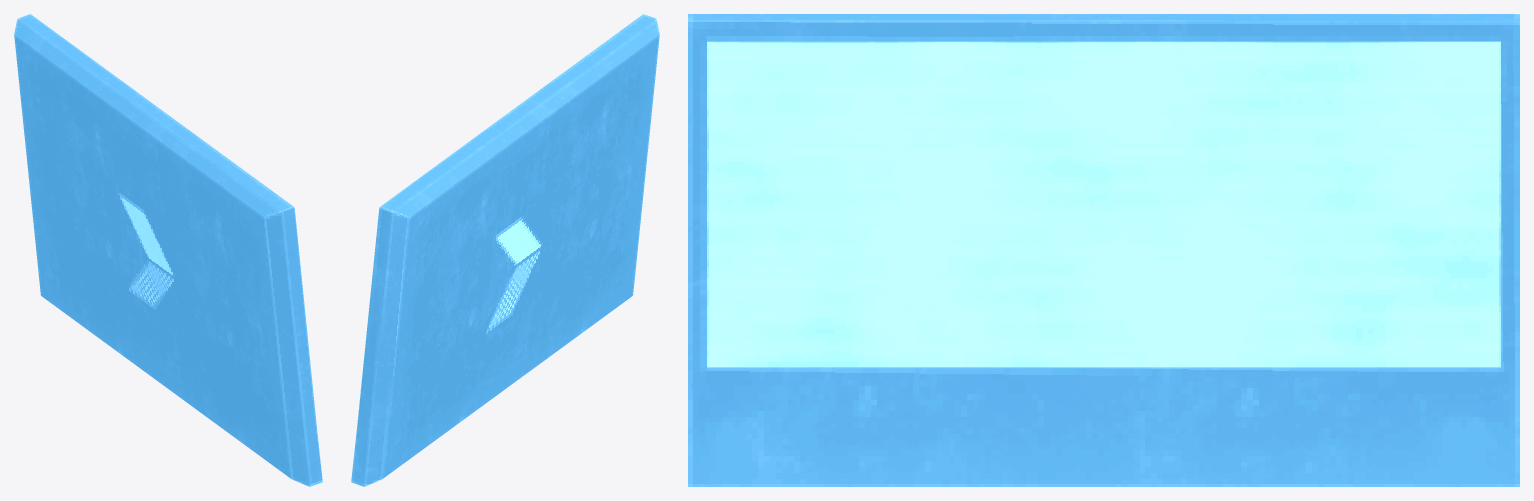
Rendered from othermonitor.glb.
The picture shows the model from 3 angles, left to right: view 1: azimuth 30°, elevation 25°; view 2: azimuth 150°, elevation 25°; view 3: azimuth 270°, elevation 25°; orthographic projection. The views are drawn at different scales.
Visible parts, largest first — view 1: monitor-col.001; view 2: monitor-col.001; view 3: monitor-col.001.
Boxes of the visible parts, box(x1,y1,x2,y2) form: monitor-col.001: box(14, 14, 322, 486); monitor-col.001: box(351, 14, 659, 486); monitor-col.001: box(688, 14, 1519, 486).
Bounding box in the file's own units: 0.289 × 1.52 × 2.57.
1 material, 1 textured.
